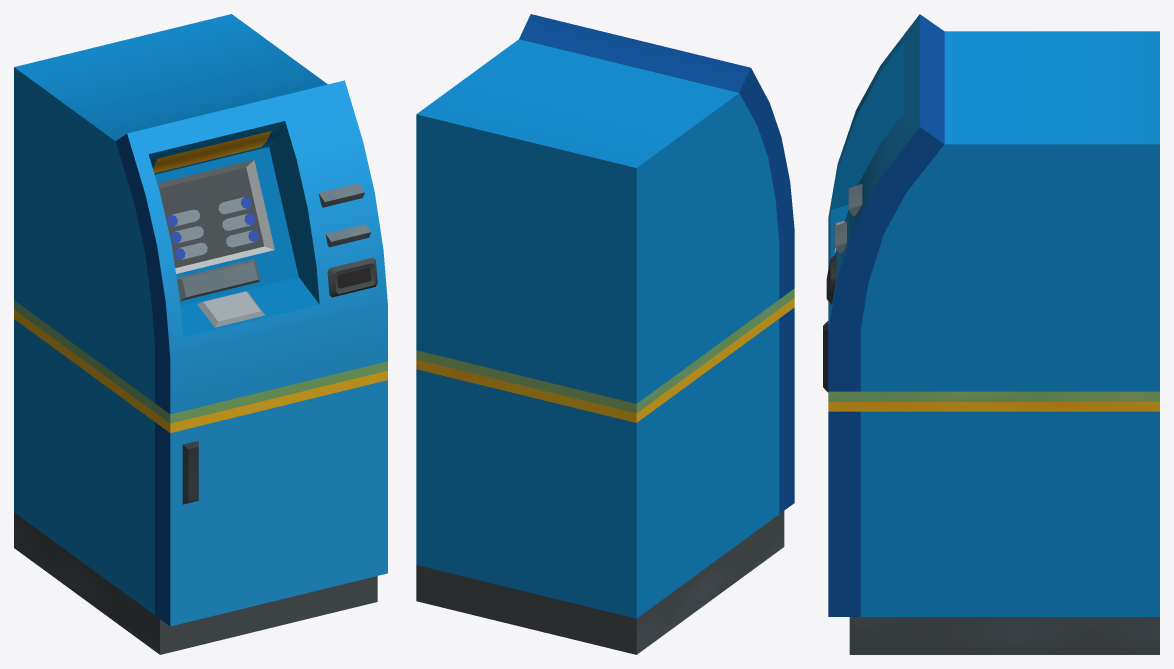
File: atm-01.glb
3 views of the same model, side by side, from view 1: azimuth 30°, elevation 25°; view 2: azimuth 150°, elevation 25°; view 3: azimuth 270°, elevation 25° (orthographic). The views are drawn at different scales.
Parts seen in each view (by area): view 1: ATM_01; view 2: ATM_01; view 3: ATM_01.
Part boxes in pixels (x1,y1,x2,y2): ATM_01: (14, 14, 387, 654); ATM_01: (416, 14, 794, 654); ATM_01: (823, 14, 1159, 654).
Size of the model in its own units: 0.7923 by 1.73 by 0.9999.
2 materials, 2 textured.
